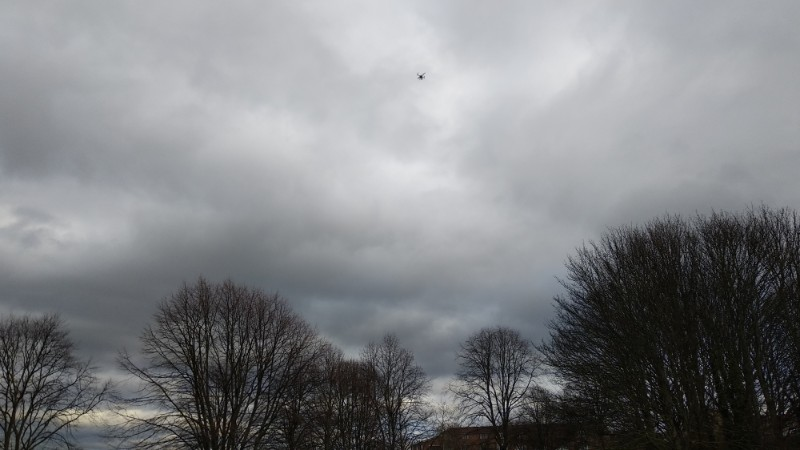drone: (416, 70, 425, 82)
